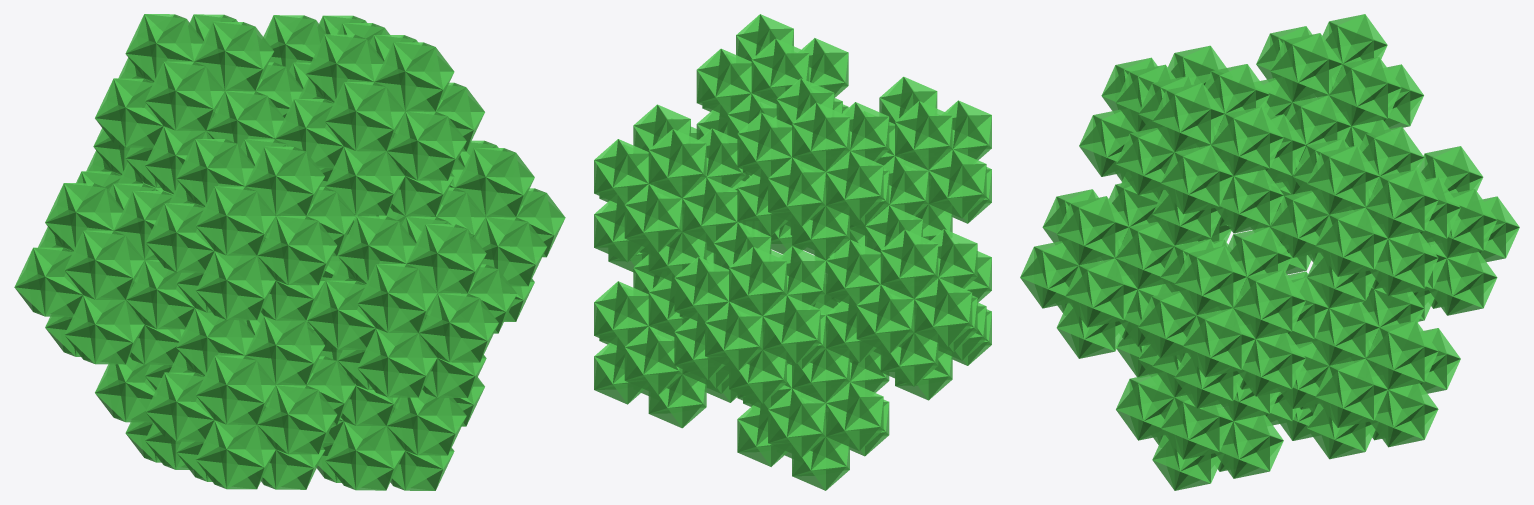
The model's file is fractalgreatdodecahedron2.glb.
The picture shows the model from 3 angles, left to right: view 1: azimuth 30°, elevation 25°; view 2: azimuth 150°, elevation 25°; view 3: azimuth 270°, elevation 25°; orthographic projection. The views are drawn at different scales.
Size of the model in its own units: 12.11 by 10.6 by 12.11.
